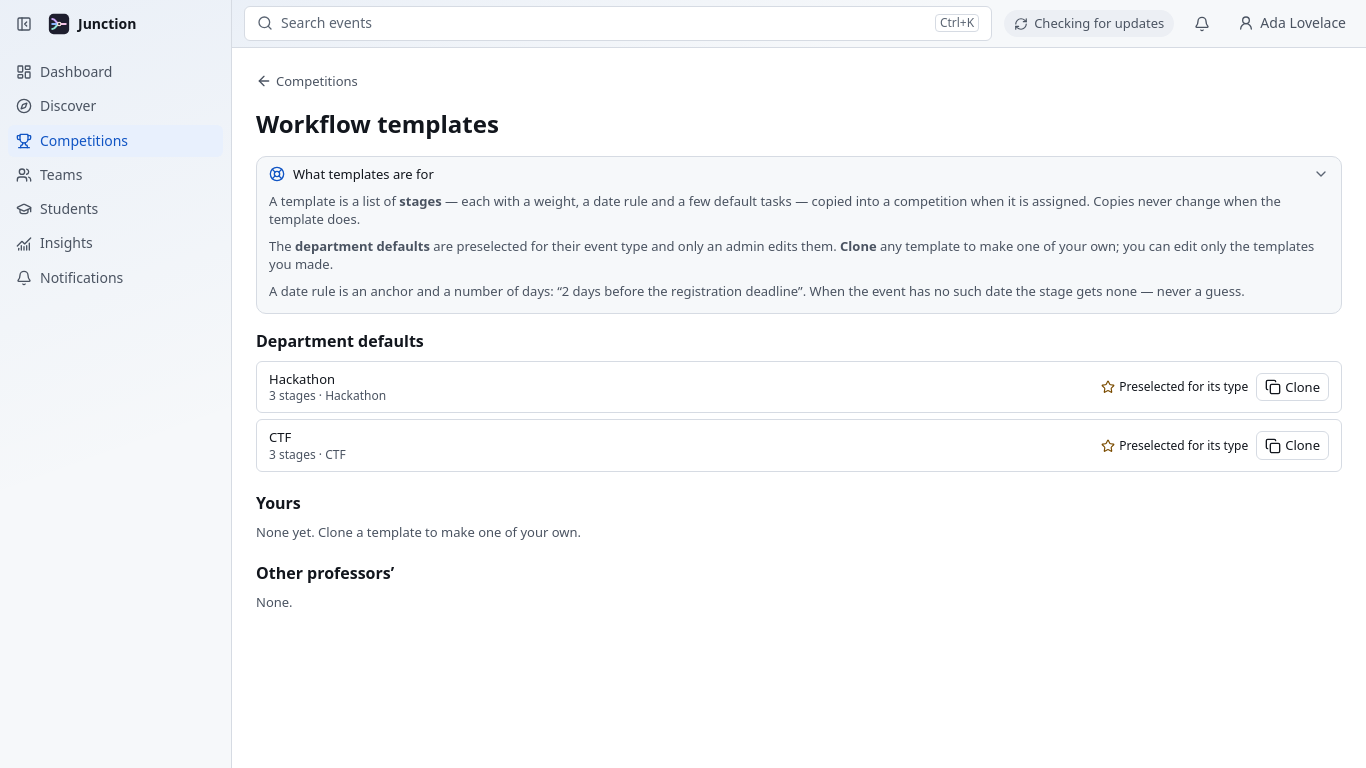
the shell proxy as the only transport (R78, F9) › clones a template
expect the navigation bar named "Main" is shown: met, box [0, 0, 231, 302]
Click the button with aria-label "Clone Hackathon" at (1293, 387), box [1256, 373, 1329, 401]
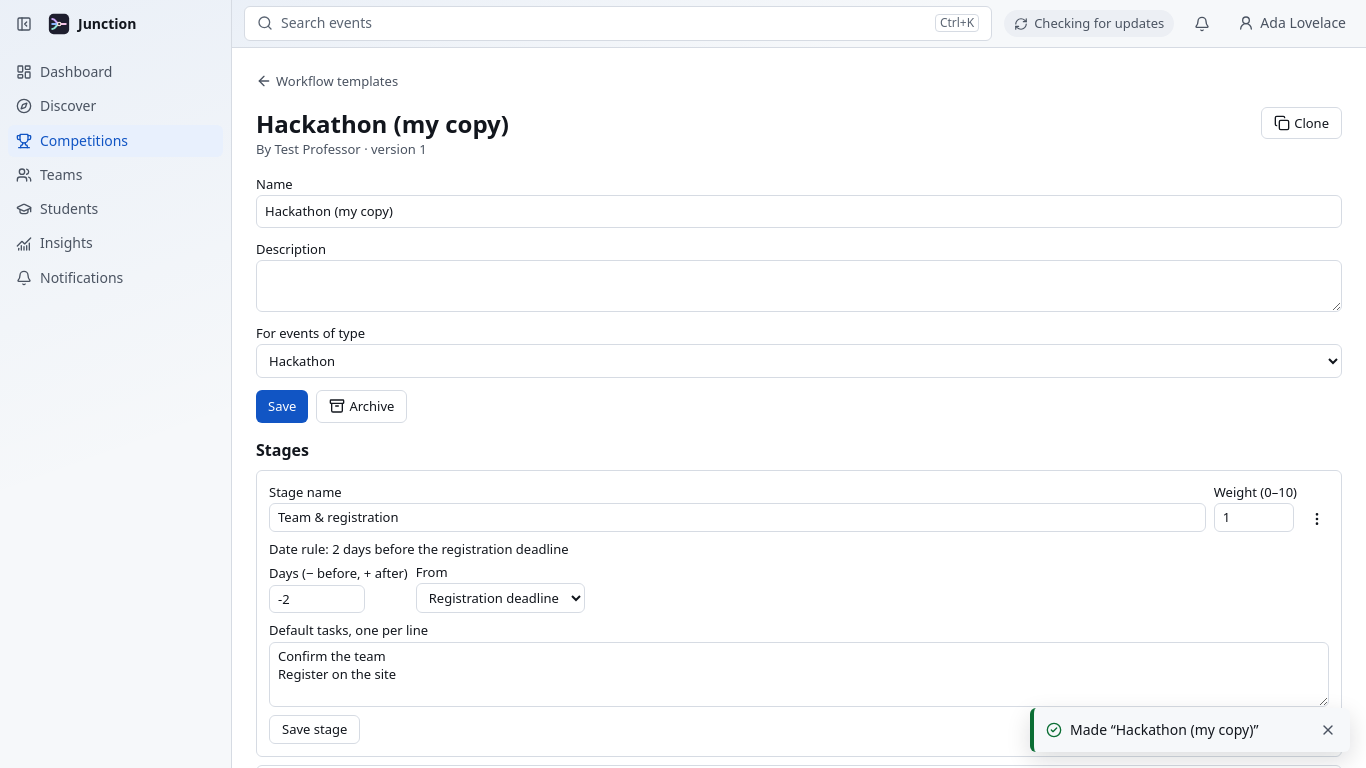
expect the heading "Hackathon (my copy)" is shown: met, box [256, 107, 509, 140]
